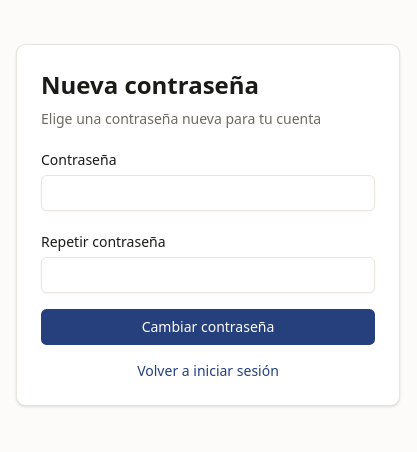
ResetPassword › muestra el error de la API si el token no es válido
This screenshot has width=417, height=452.
Type "Str0ng!Pass" into the password field labelled "Contraseña".
click(208, 193); type("Str0ng!Pass")  # box [41, 175, 375, 211]
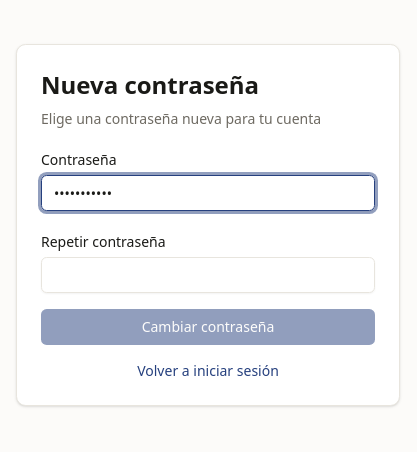
Type "Str0ng!Pass" into the password field labelled "Repetir contraseña".
click(208, 275); type("Str0ng!Pass")  # box [41, 257, 375, 293]
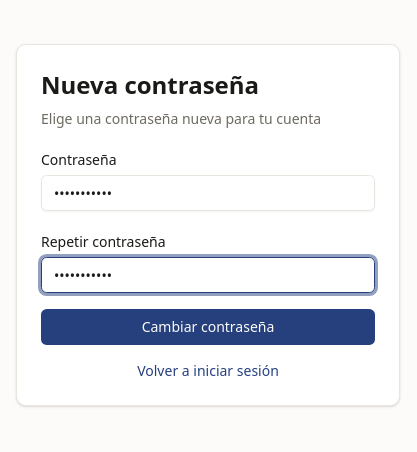
Click the button "Cambiar contraseña".
click(208, 327)  # box [41, 309, 375, 345]
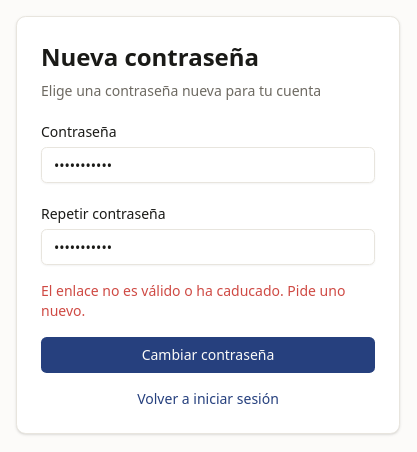
Expected: the message shows "no es válido o ha caducado", [41, 281, 345, 320]
